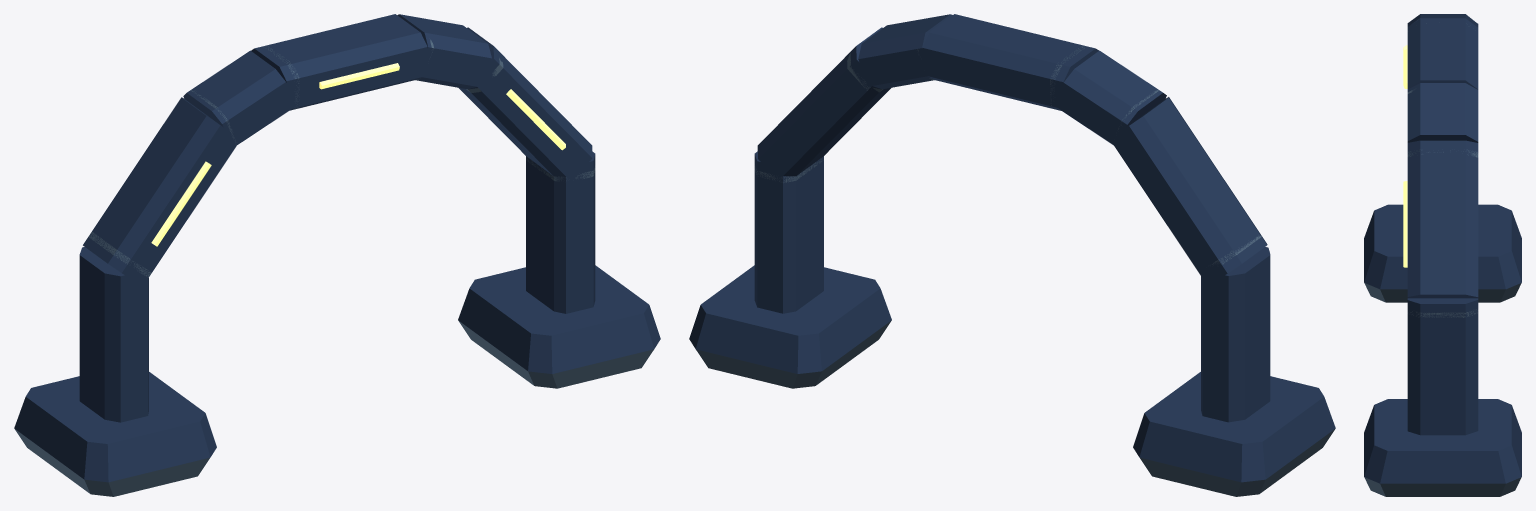
Rendered from transfer-arch.glb.
3 views of the same model, side by side, from view 1: azimuth 30°, elevation 25°; view 2: azimuth 150°, elevation 25°; view 3: azimuth 270°, elevation 25° (orthographic). The views are drawn at different scales.
Visible parts, largest first — view 1: transfer-arch; view 2: transfer-arch; view 3: transfer-arch.
Boxes of the visible parts, x1,y1,x2,y2 form: transfer-arch: (14, 14, 660, 496); transfer-arch: (689, 14, 1335, 496); transfer-arch: (1364, 14, 1521, 496).
Bounding box in the file's own units: 7.12 × 4.28 × 1.88.
